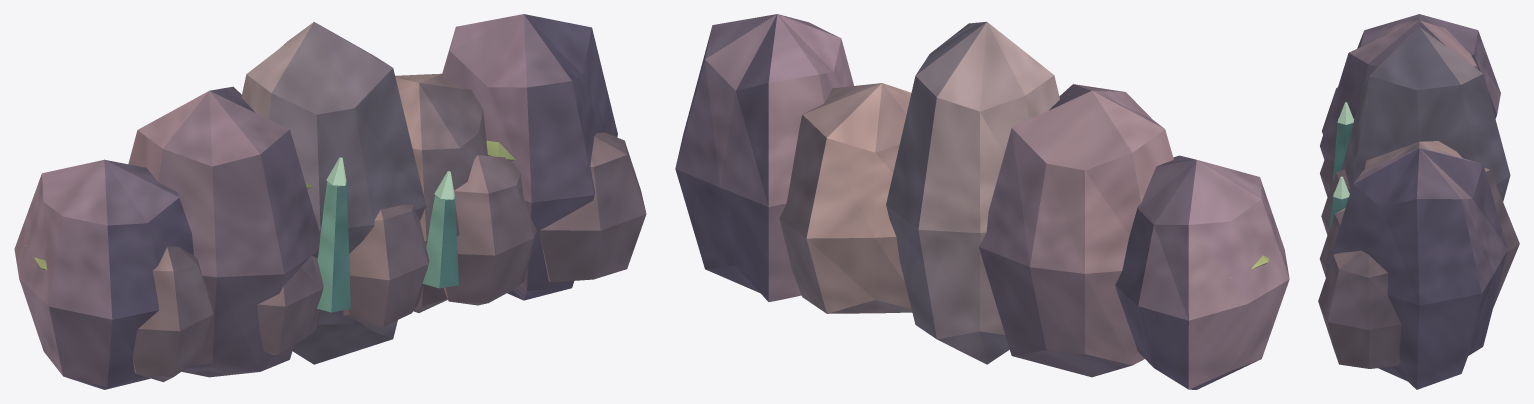
File: dusk_wall.glb
The picture shows the model from 3 angles, left to right: view 1: azimuth 30°, elevation 25°; view 2: azimuth 150°, elevation 25°; view 3: azimuth 270°, elevation 25°; orthographic projection. The views are drawn at different scales.
Parts seen in each view (by area): view 1: Dämmergänge · brüchiger Stein mit Quarz; view 2: Dämmergänge · brüchiger Stein mit Quarz; view 3: Dämmergänge · brüchiger Stein mit Quarz.
Boxes of the visible parts, left/top/right/bottom form: Dämmergänge · brüchiger Stein mit Quarz: left=14, top=14, right=646, bottom=389; Dämmergänge · brüchiger Stein mit Quarz: left=675, top=14, right=1289, bottom=389; Dämmergänge · brüchiger Stein mit Quarz: left=1318, top=14, right=1519, bottom=389.
Size of the model in its own units: 2.62 by 1.46 by 0.9356.
Materials: 2 (1 with a texture image).
